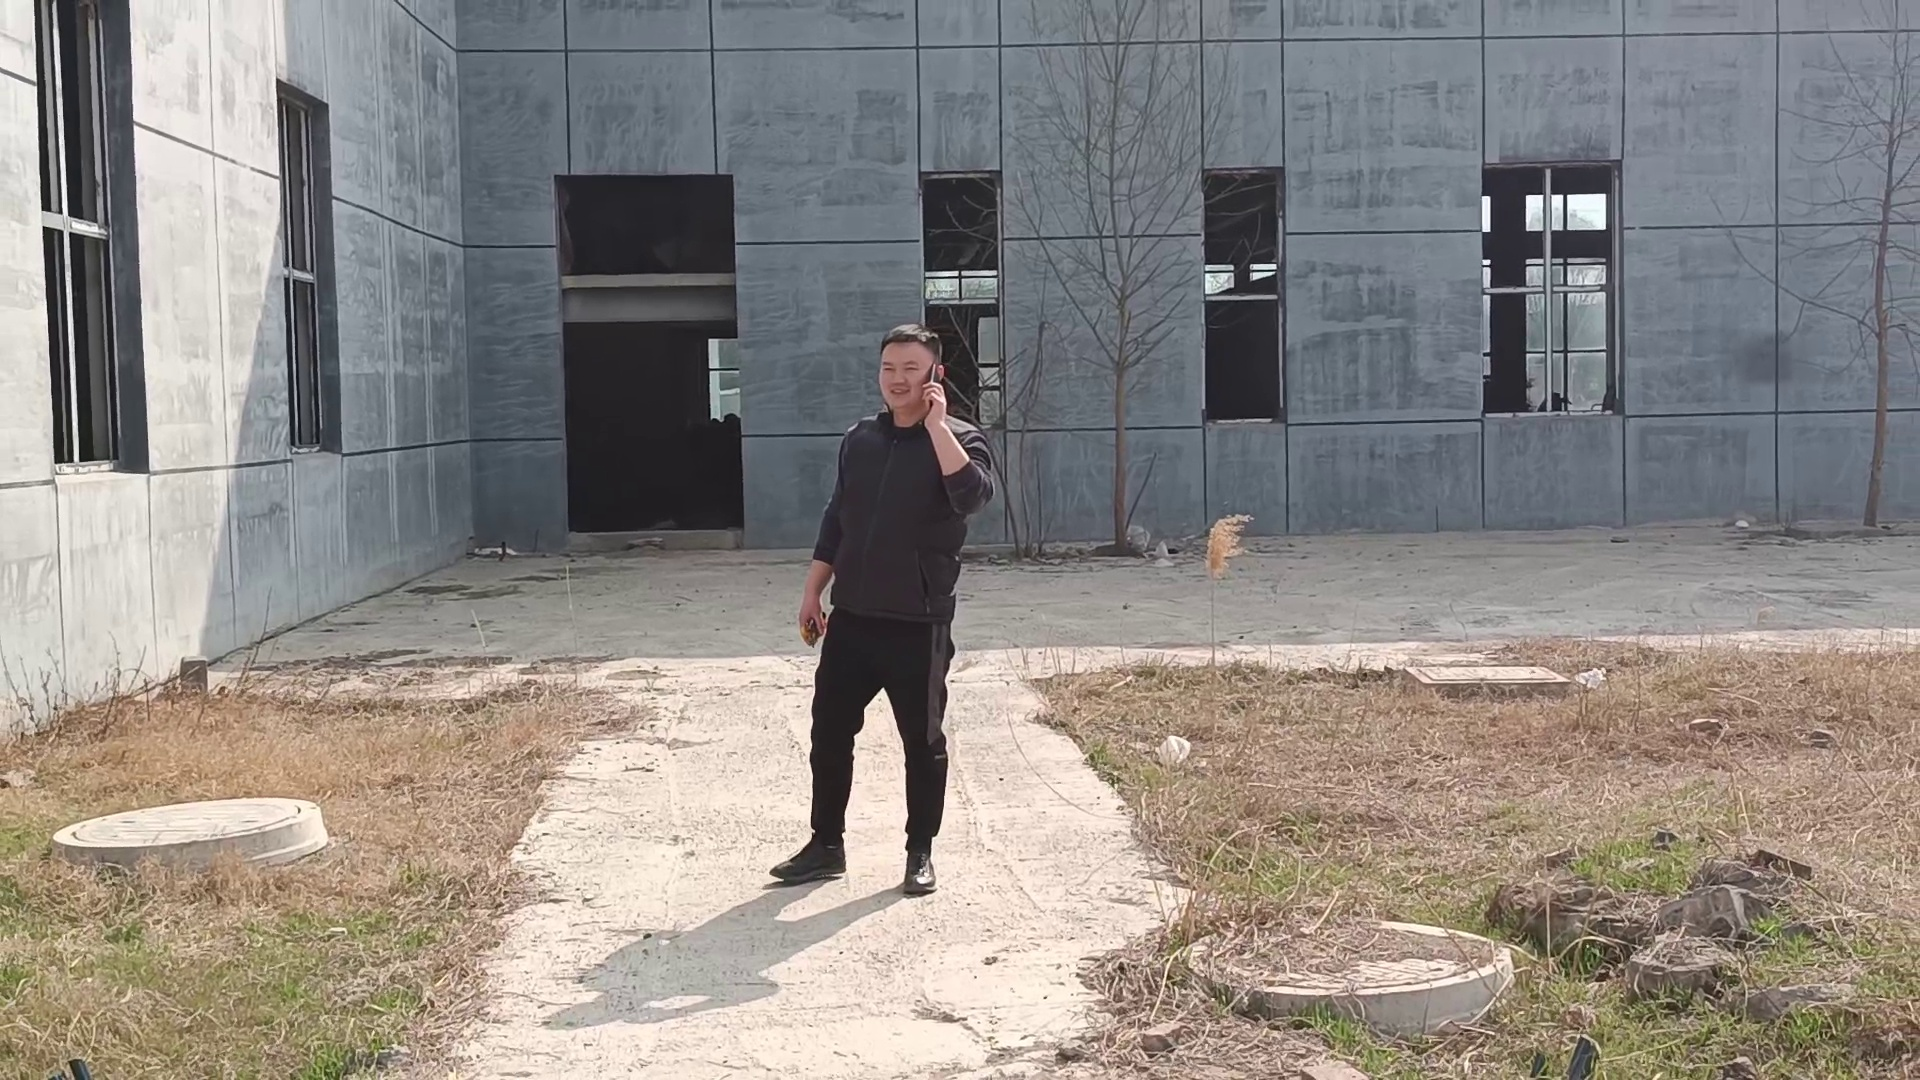phone: (874, 328, 967, 429)
